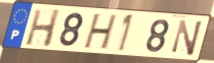1: (117, 13, 136, 55)
8: (58, 12, 84, 48), (145, 18, 170, 54)
H: (24, 8, 62, 49), (81, 13, 119, 52)
N: (170, 18, 205, 58)
